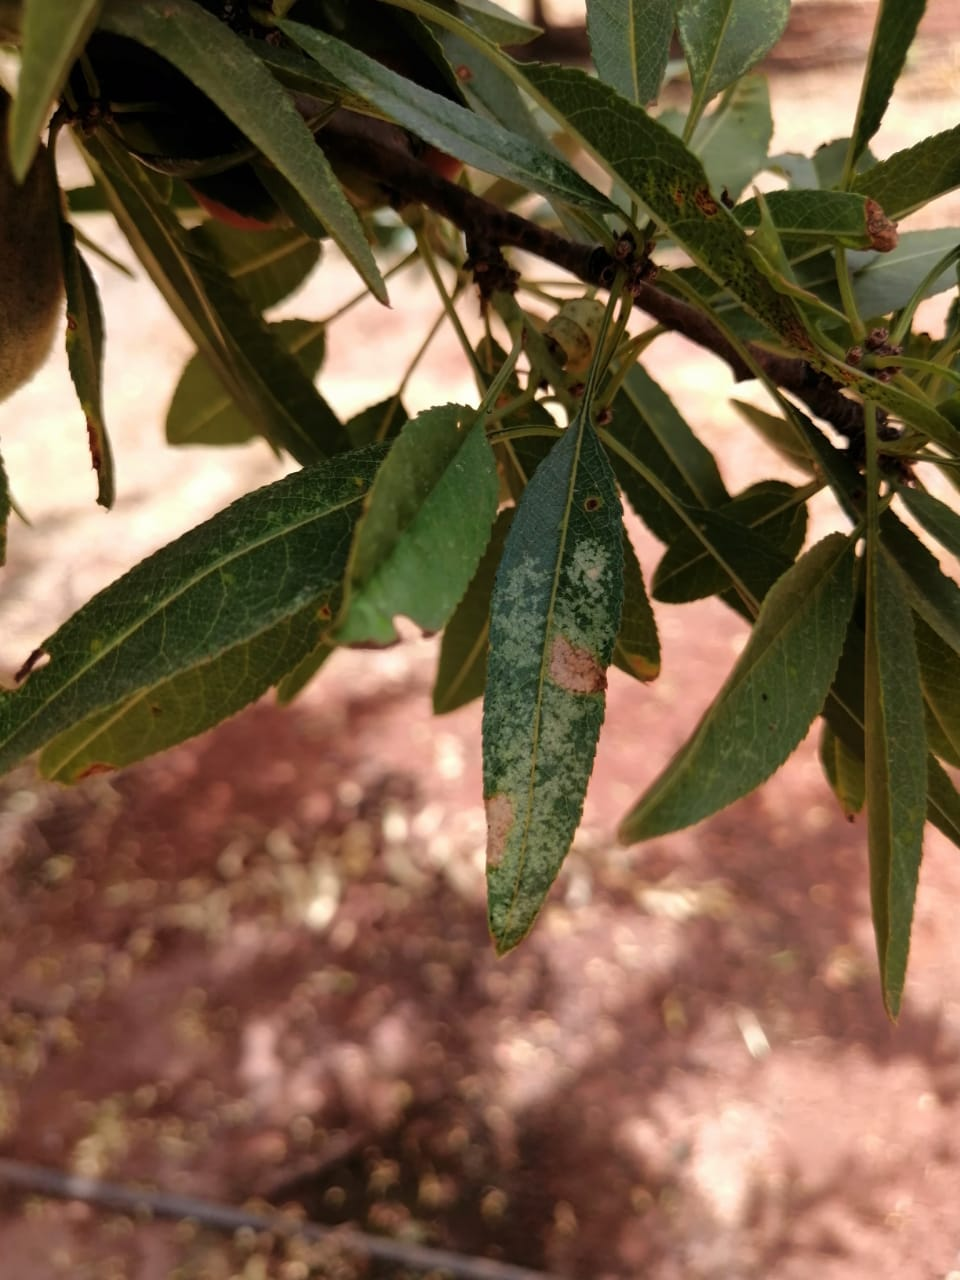faux tigre: (479, 421, 624, 956)
